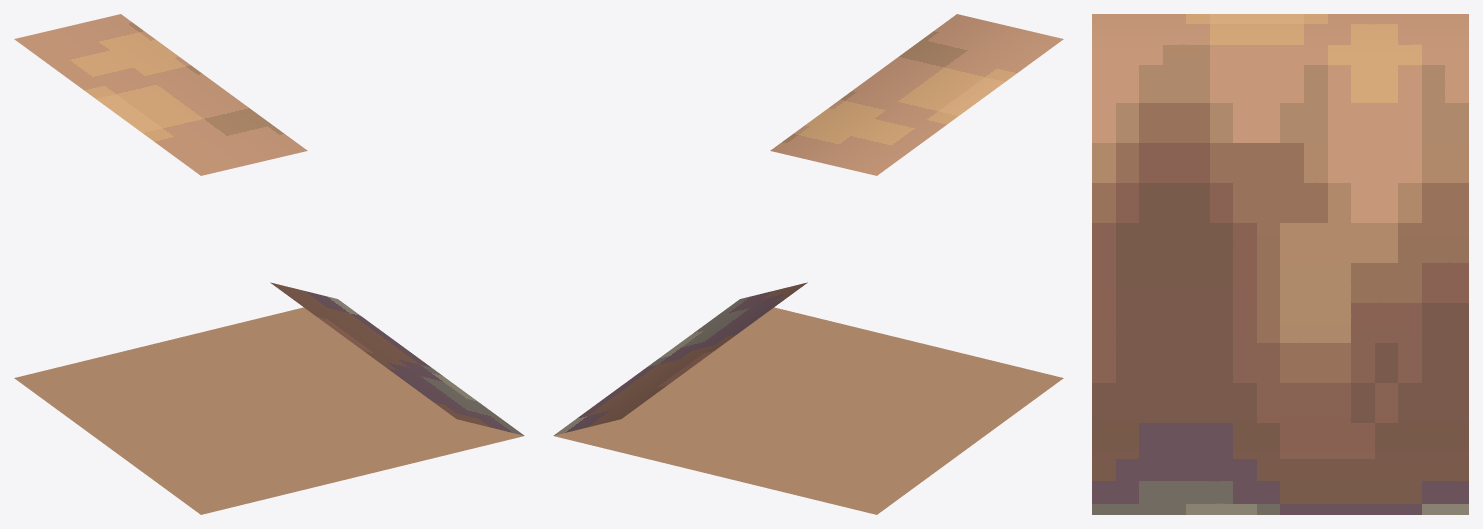
The picture shows the model from 3 angles, left to right: view 1: azimuth 30°, elevation 25°; view 2: azimuth 150°, elevation 25°; view 3: azimuth 270°, elevation 25°; orthographic projection.
Size of the model in its own units: 1 by 1 by 1.
Materials: 1 (1 with a texture image).
